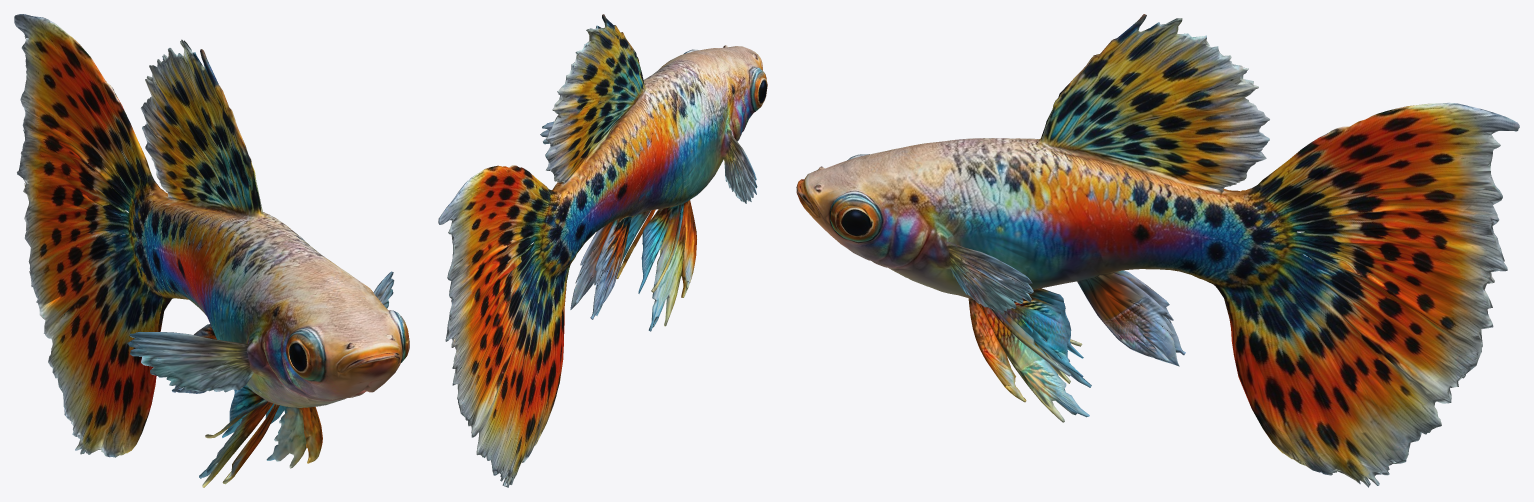
Rendered from guppy-0.glb.
3 views of the same model, side by side, from view 1: azimuth 30°, elevation 25°; view 2: azimuth 150°, elevation 25°; view 3: azimuth 270°, elevation 25° (orthographic). The views are drawn at different scales.
Parts seen in each view (by area): view 1: Body; view 2: Body; view 3: Body.
Boxes of the visible parts, x1,y1,x2,y2 form: Body: (14, 14, 409, 487); Body: (438, 14, 767, 487); Body: (796, 14, 1519, 487).
Size of the model in its own units: 0.2339 by 0.4107 by 0.5694.
Materials: 1 (1 with a texture image).
